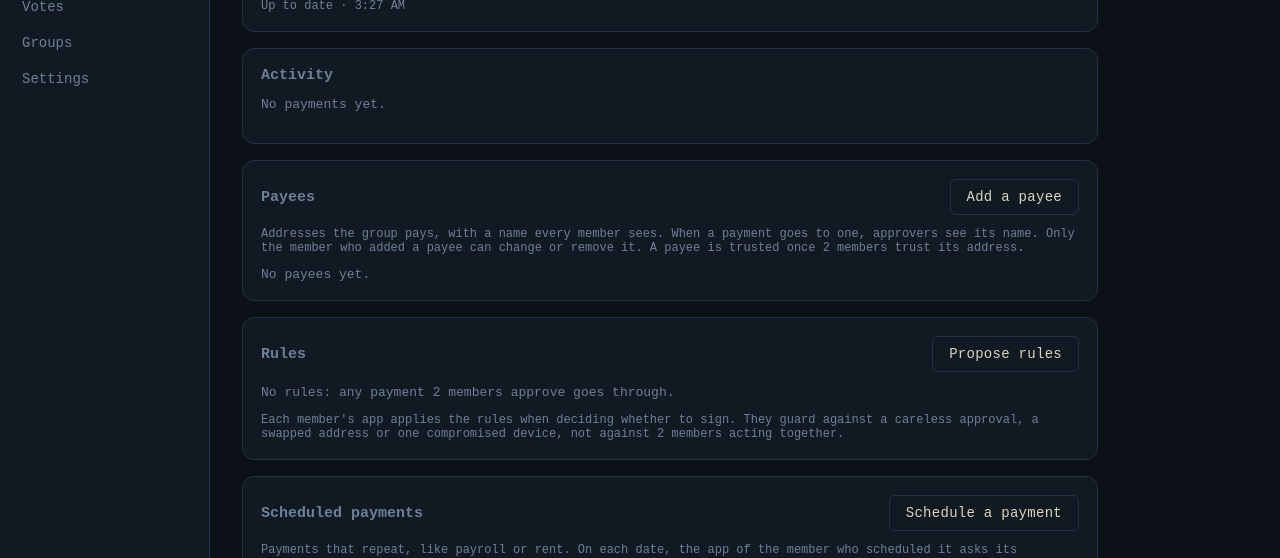
rules are proposed from the wallet, as a poll the group adopts
Expected: the text "No rules: any payment 2 members approve goes through." is shown, [261,385,674,400]
Click the button "Propose rules" at [1006, 354], box [932,336,1079,372]
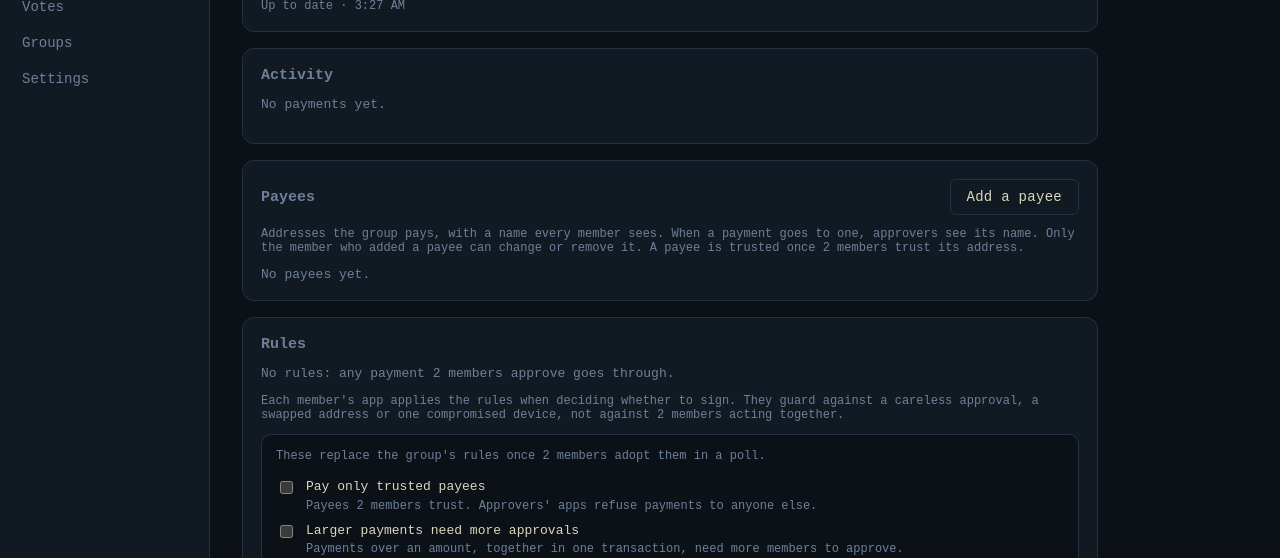
Click the checkbox labelled "Pay only trusted payees" at [286, 488], box [280,481,293,494]
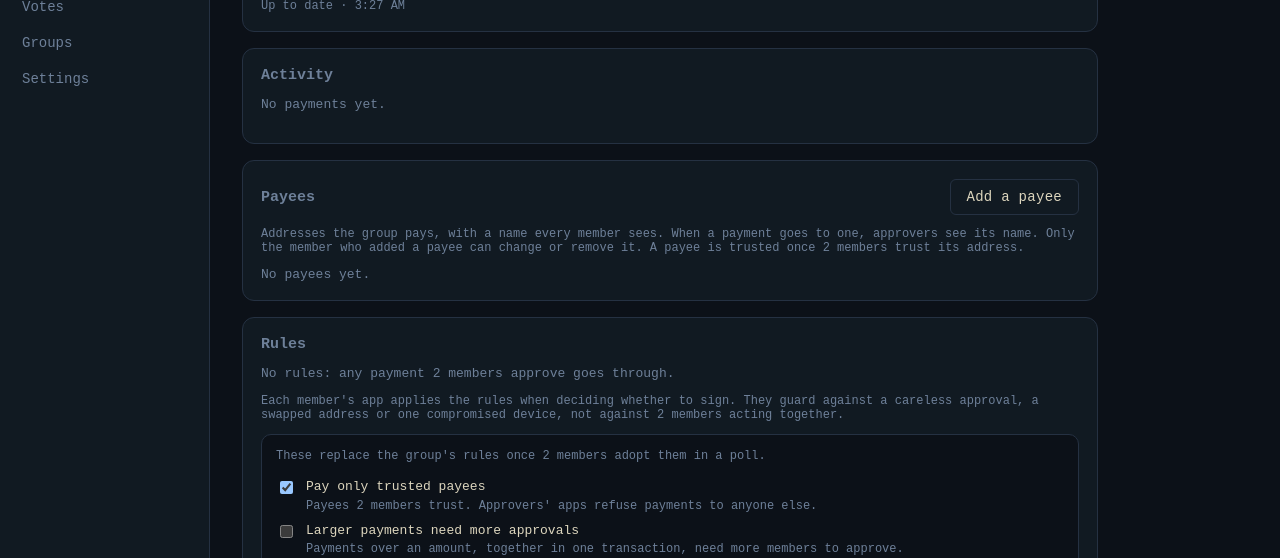
Click the checkbox labelled "Larger payments need more approvals" at [286, 531], box [280,524,293,538]
(page scrolled)
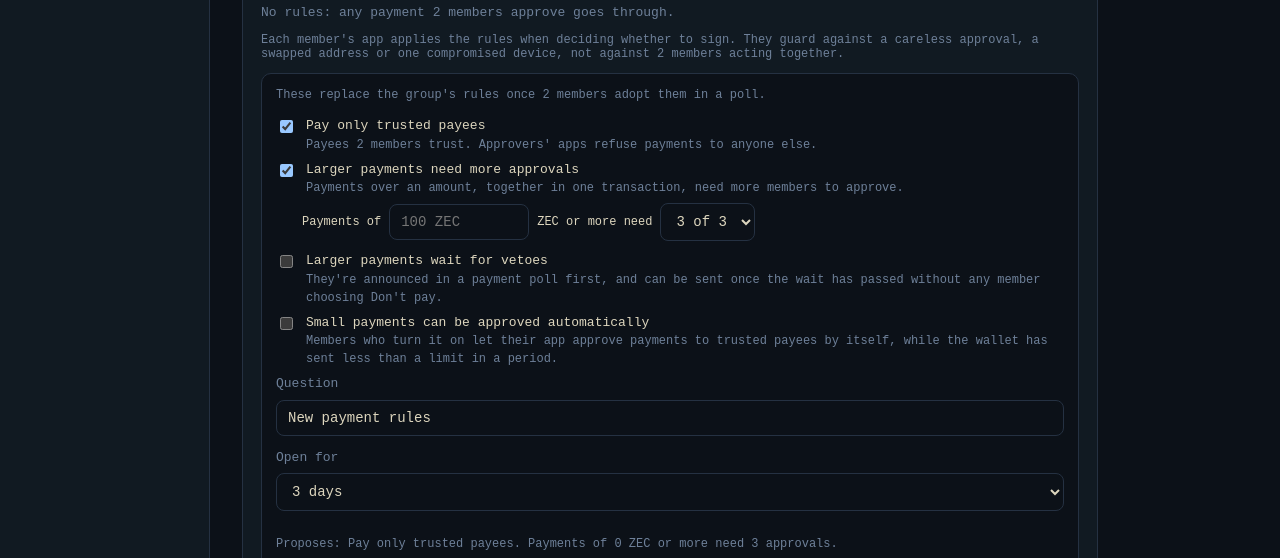
Type "100" into the field named "From this amount" at [459, 222], box [389,204,529,240]
(page scrolled)
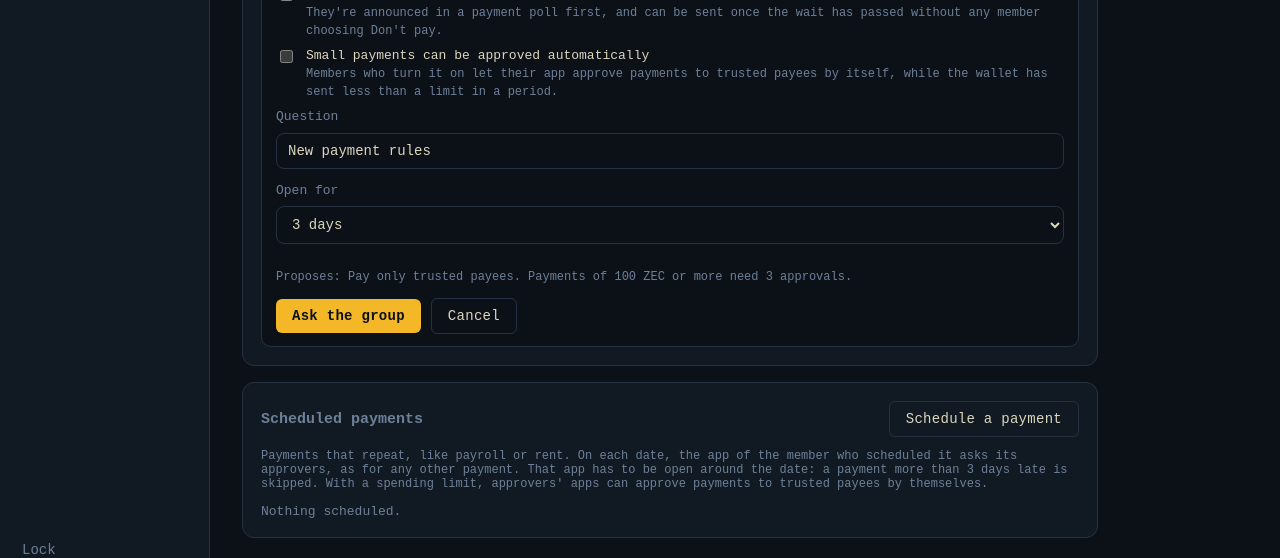
Result: the text "Proposes: Pay only trusted payees. Payments of 100 ZEC or more need 3 approvals." is shown at [276,270,852,284]
Click the button "Ask the group" at [348, 316], box [276,299,421,333]
(page scrolled)
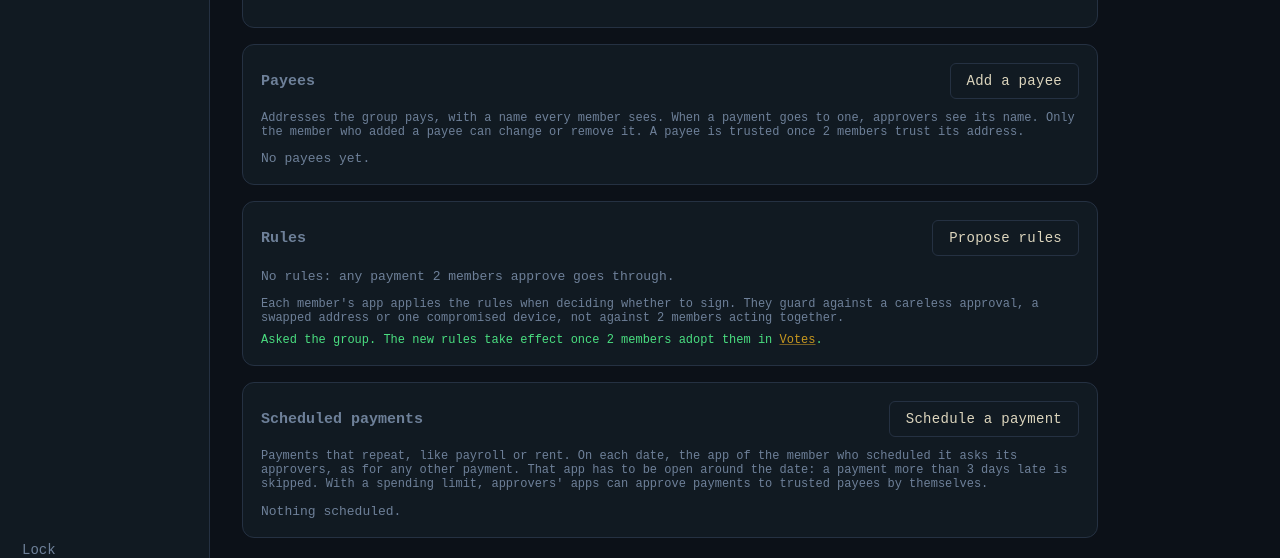
Result: the text "Asked the group" is shown at [261,333,607,347]
